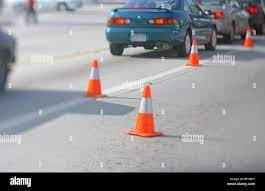car: (104, 1, 216, 56), (197, 1, 252, 44)
cone: (125, 86, 165, 139), (84, 59, 105, 98), (185, 39, 204, 66), (243, 25, 255, 47)
